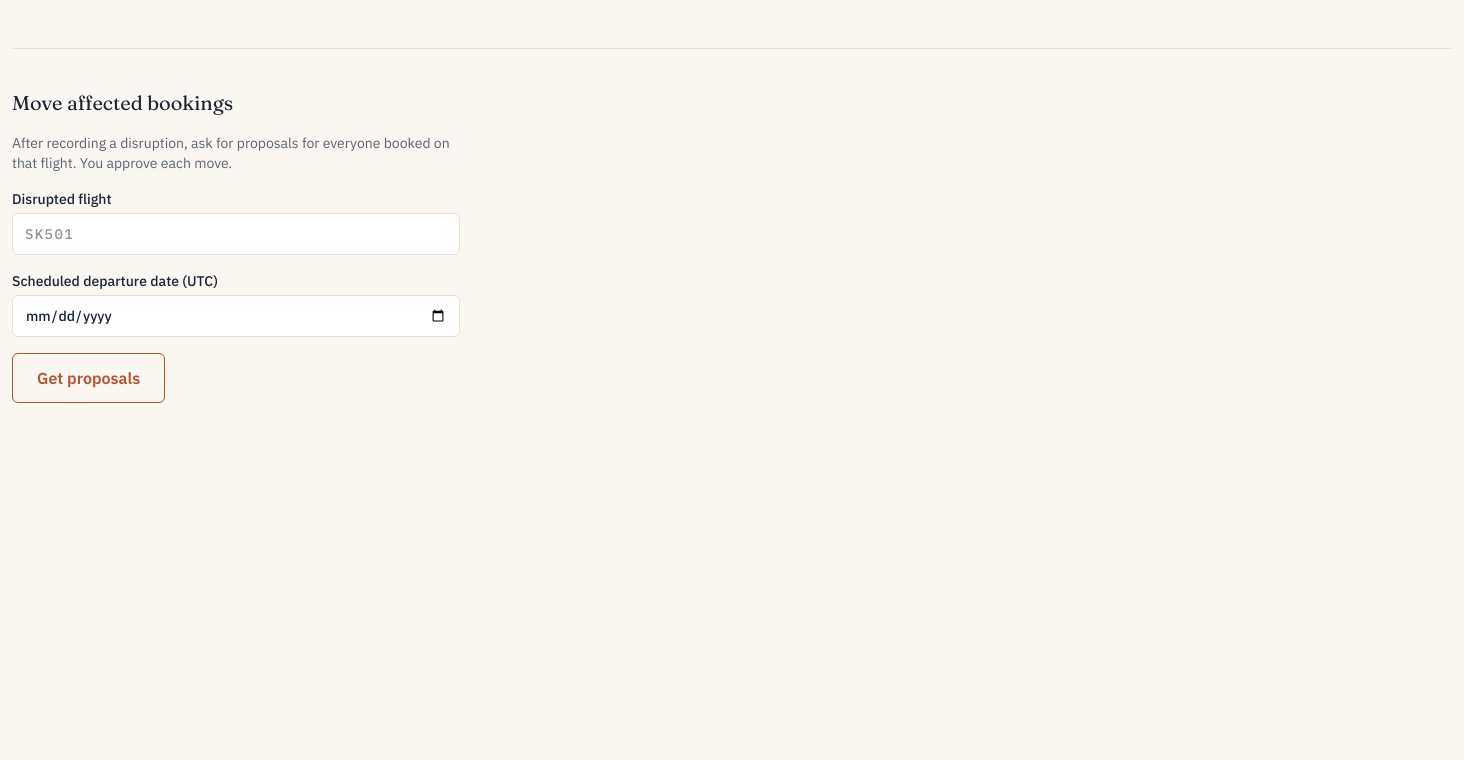
ProposalsPanel groups (ADR-0043) › makes the group buttons act only on the bookings shown, so a search cannot widen them
Submit the form named "Get proposals", box [12,89,460,403]
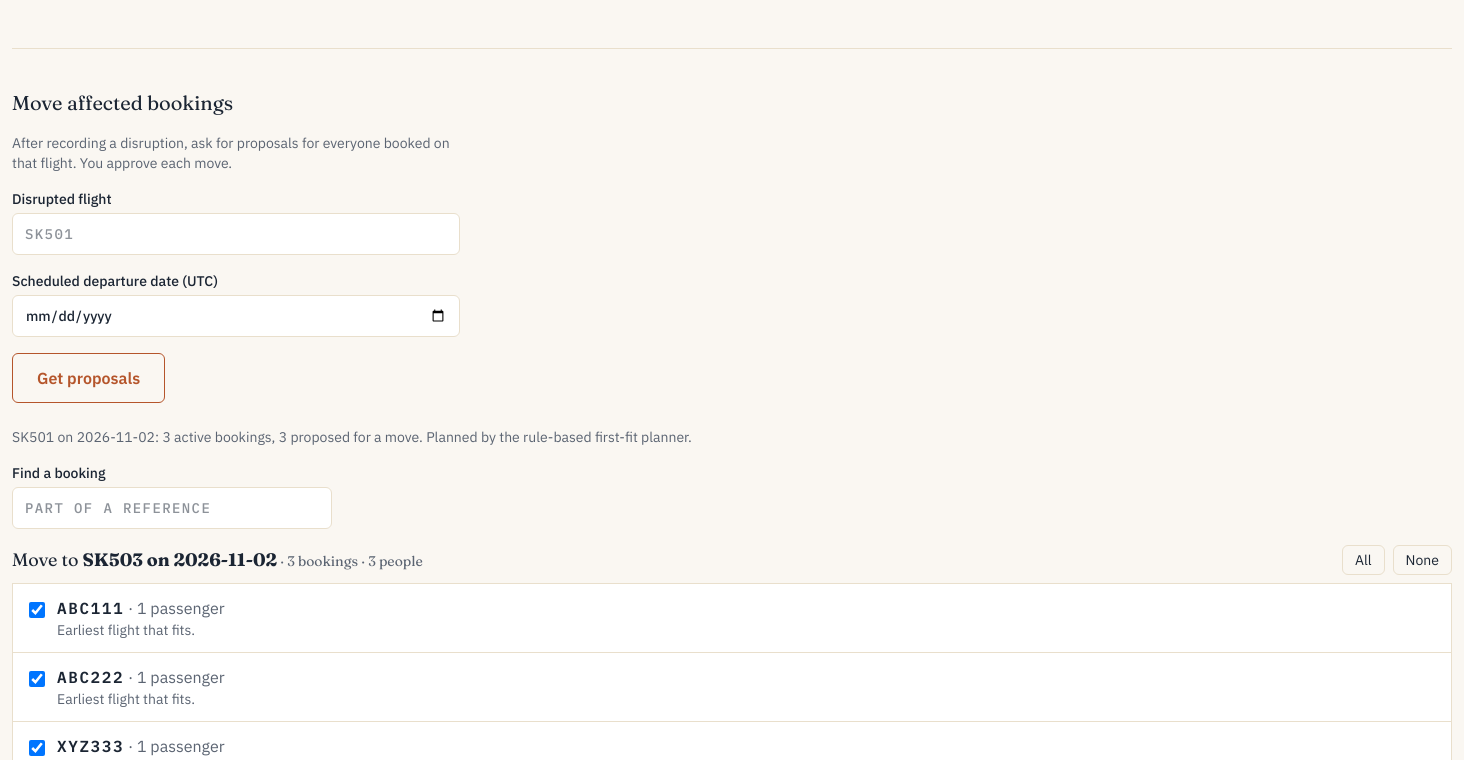
Now the text "ABC111" is shown, box [57,598,124,618]
Type "abc" into the field labelled "Find a booking" at (172, 508), box [12,487,332,529]
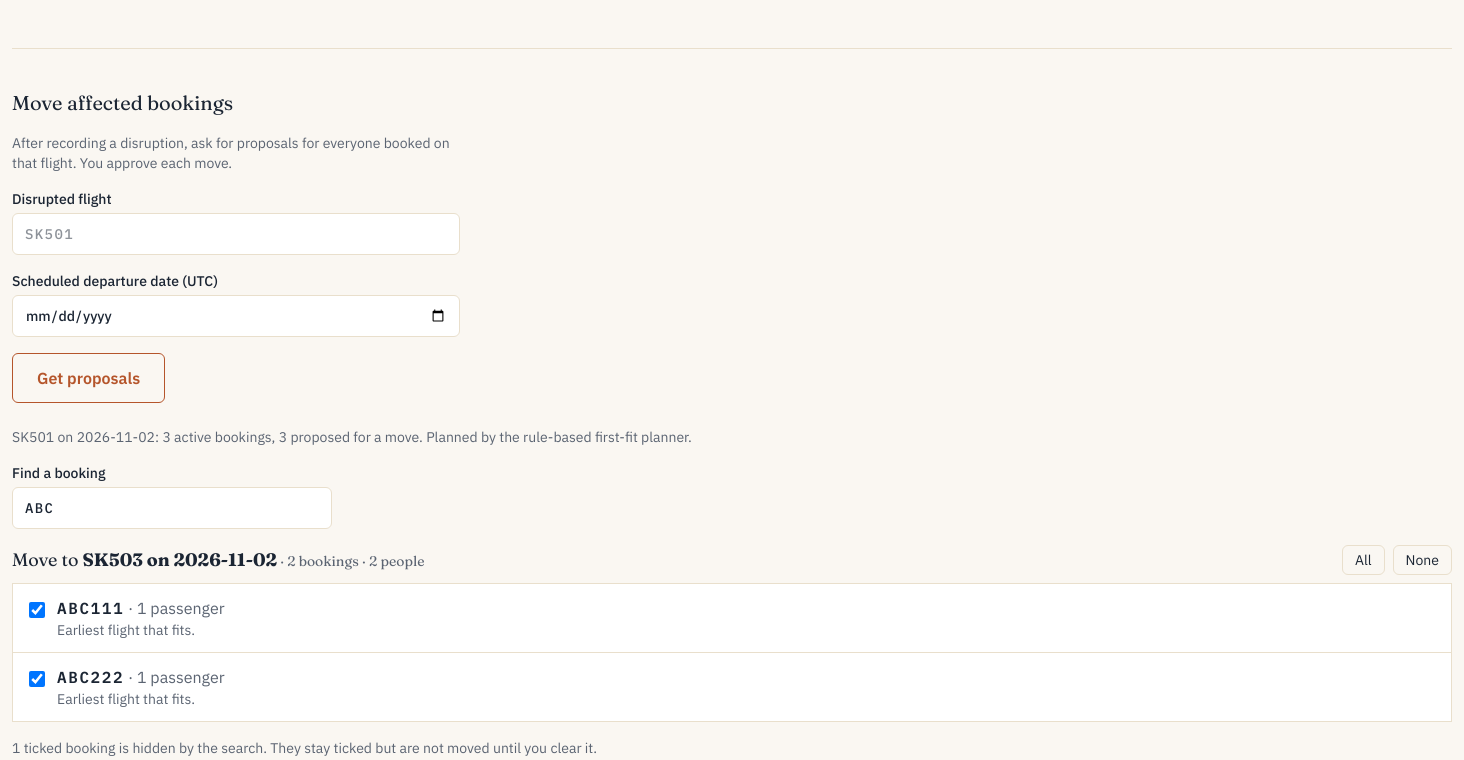
Click the button with aria-label "Select none going to SK503 on 2026-11-02" at (1422, 560), box [1393,545,1452,575]
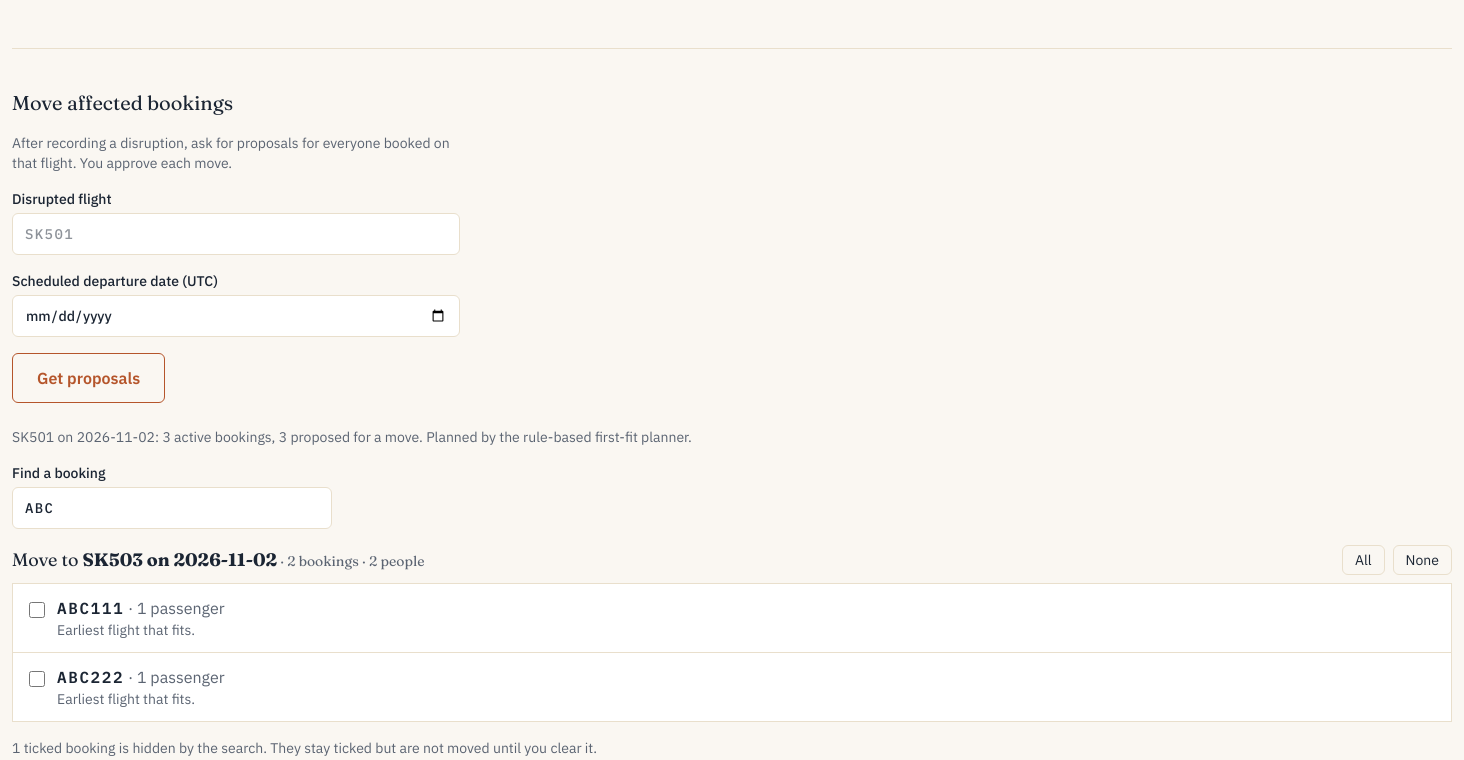
Clear the field labelled "Find a booking" at (172, 508), box [12,487,332,529]
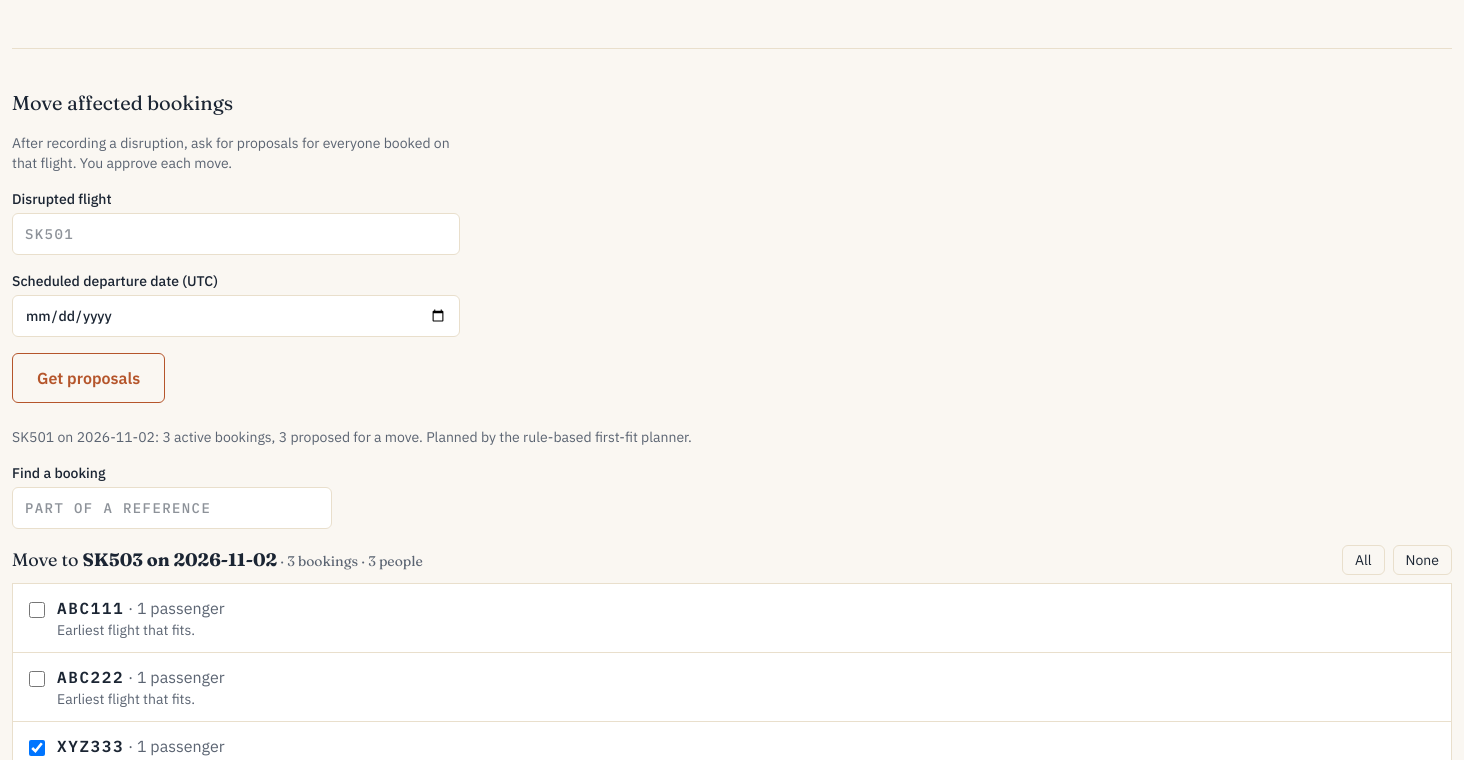
Now the checkbox named "Move ABC111" is not checked, box [29,602,45,618]
Now the checkbox named "Move ABC222" is not checked, box [29,671,45,687]
Now the checkbox named "Move XYZ333" is checked, box [29,740,45,756]
